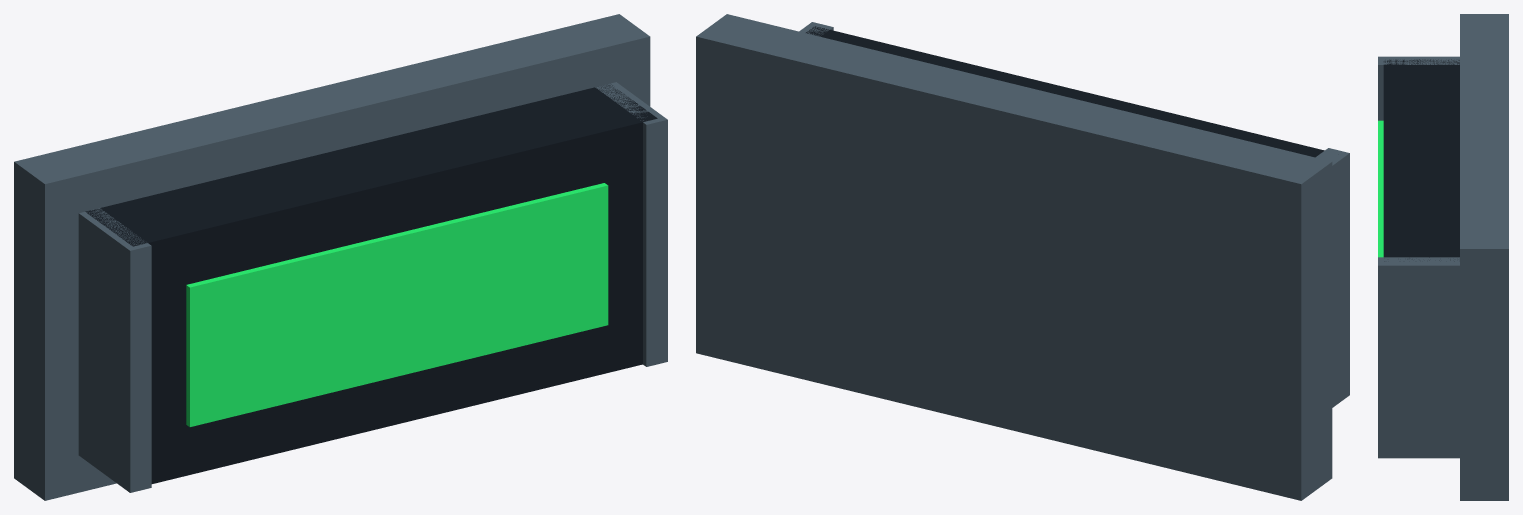
The picture shows the model from 3 angles, left to right: view 1: azimuth 30°, elevation 25°; view 2: azimuth 150°, elevation 25°; view 3: azimuth 270°, elevation 25°; orthographic projection. The views are drawn at different scales.
Parts seen in each view (by area): view 1: P16-07_Steel, P16-07_DarkPanel, P16-07_EmissionGreen; view 2: P16-07_Steel, P16-07_DarkPanel; view 3: P16-07_Steel, P16-07_DarkPanel, P16-07_EmissionGreen.
Boxes of the visible parts, x1,y1,x2,y2 form: P16-07_Steel: (14, 14, 667, 500); P16-07_DarkPanel: (85, 84, 657, 483); P16-07_EmissionGreen: (186, 183, 608, 426); P16-07_Steel: (696, 14, 1349, 500); P16-07_DarkPanel: (806, 26, 1324, 157); P16-07_Steel: (1378, 14, 1508, 500); P16-07_DarkPanel: (1383, 59, 1459, 261); P16-07_EmissionGreen: (1378, 120, 1383, 257).
Bounding box in the file's own units: 0.34 × 0.17 × 0.08.
